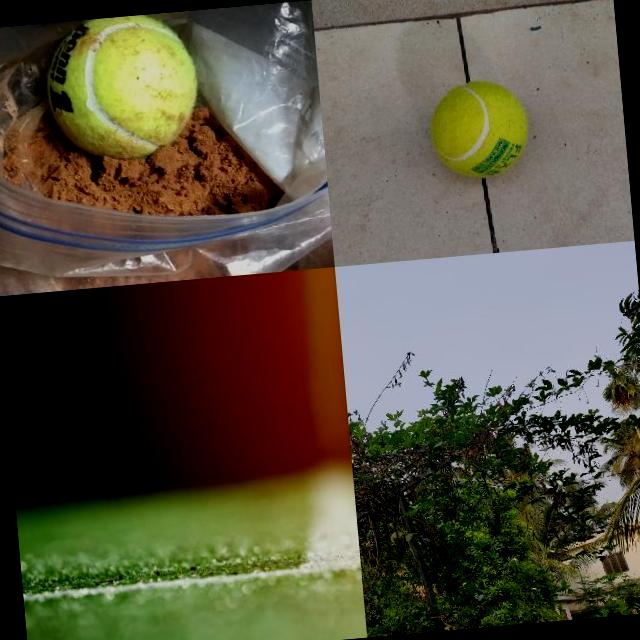tennis-ball: (39, 10, 205, 166), (426, 76, 532, 182)
